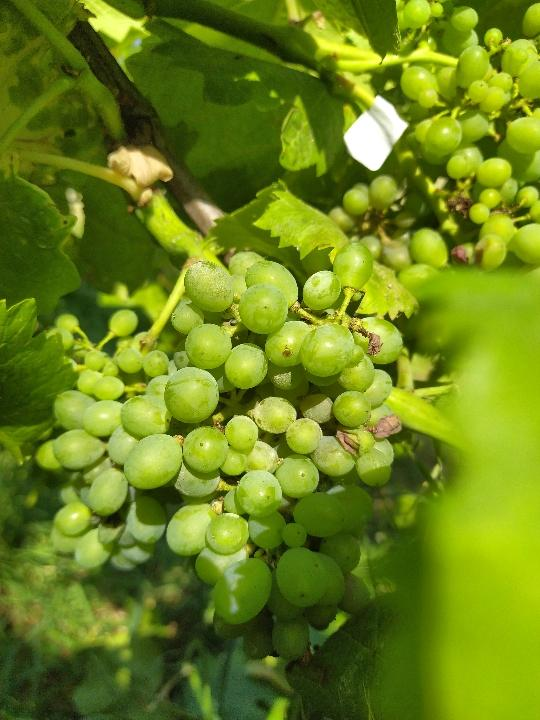grape: (35, 239, 407, 665)
